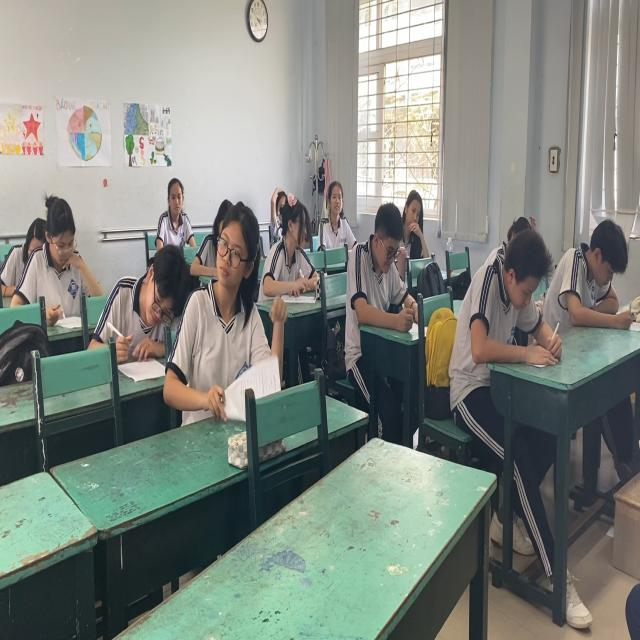cheating: (191, 196, 271, 376)
not_cheating: (468, 204, 554, 366), (18, 179, 99, 293), (350, 200, 410, 344), (568, 210, 638, 328), (108, 245, 183, 321), (270, 183, 320, 296), (312, 176, 356, 248), (158, 176, 193, 248), (403, 186, 426, 231)
